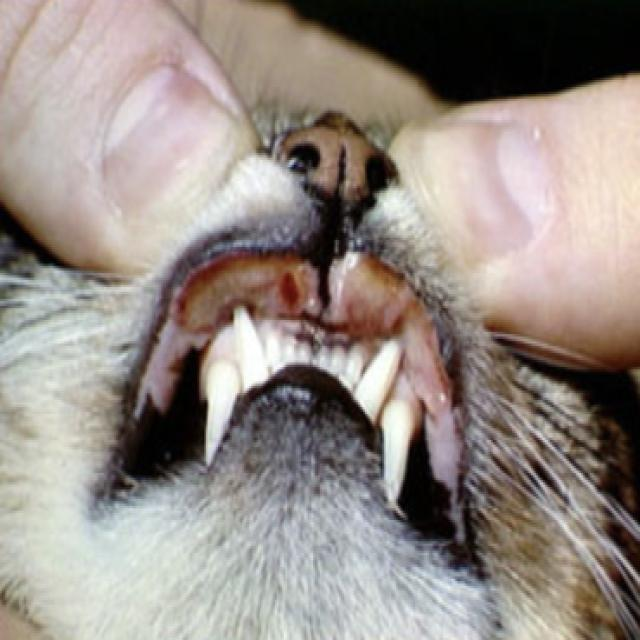cat-ulcer: (178, 270, 411, 342)
